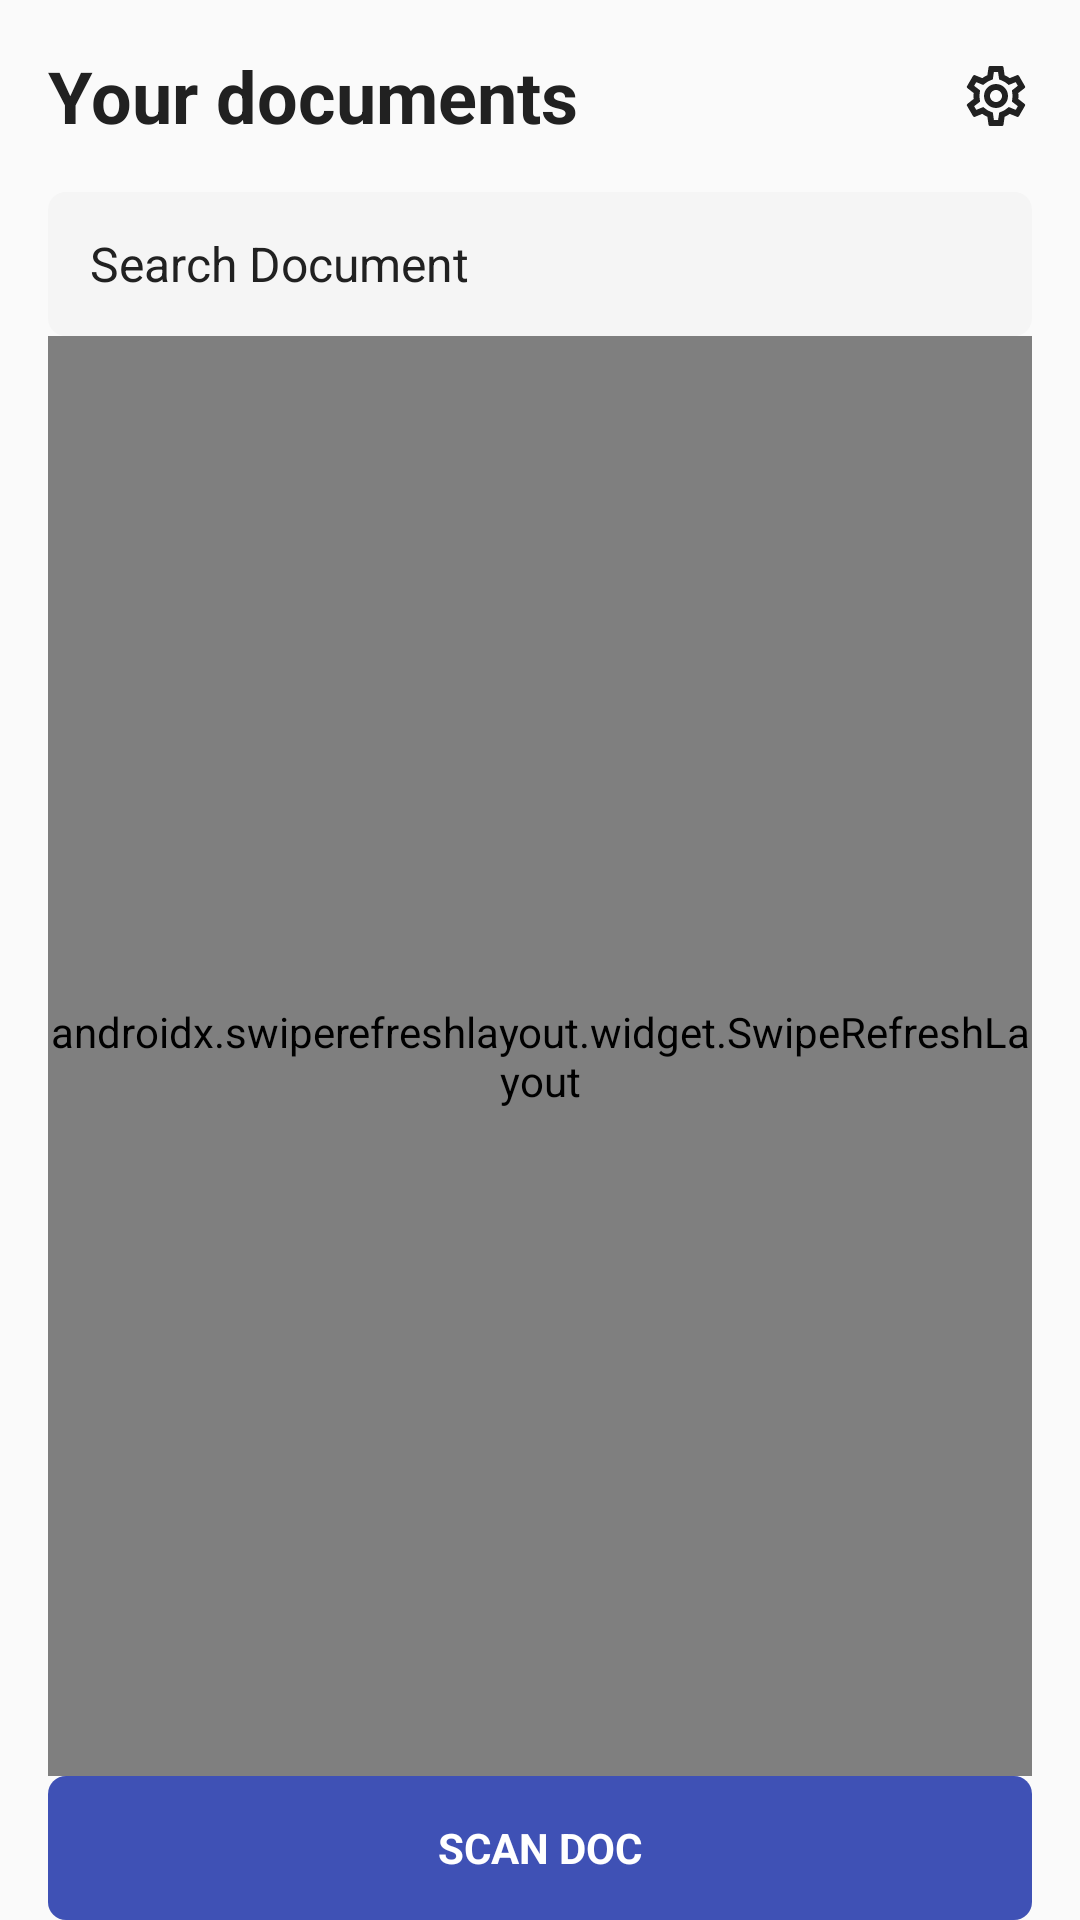

Screen size 1080px x 1920px. Icon name, then its box in pixels as box(x1, y1, x2, y2):
setting: box(966, 66, 1025, 126)
